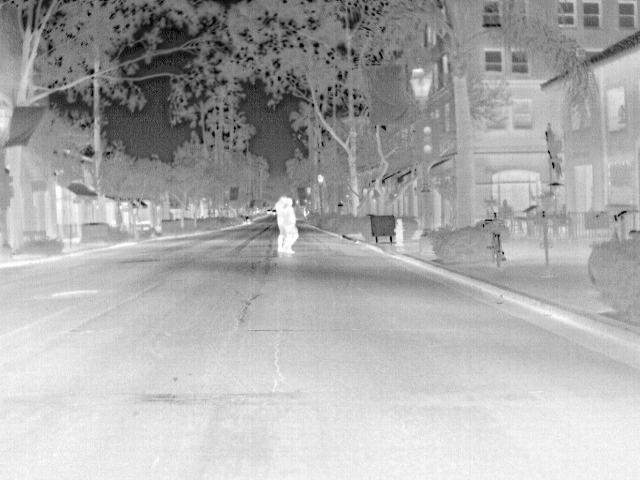person: (284, 198, 298, 255), (275, 196, 287, 254)
